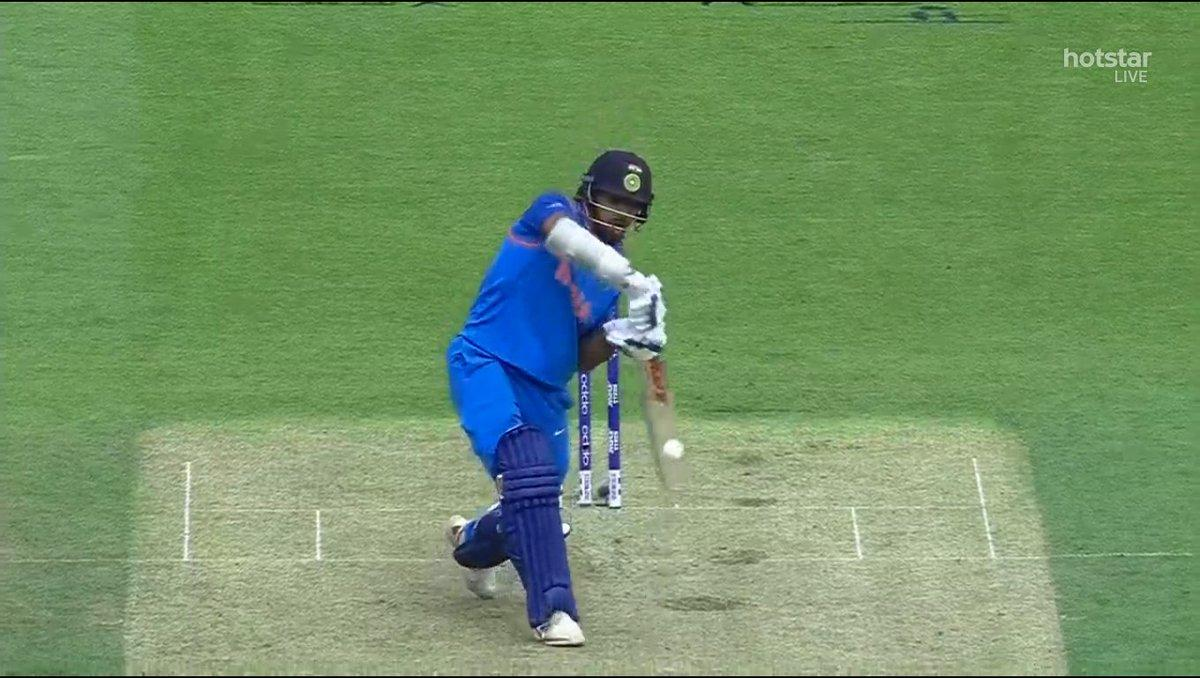batsman: (441, 153, 694, 651)
